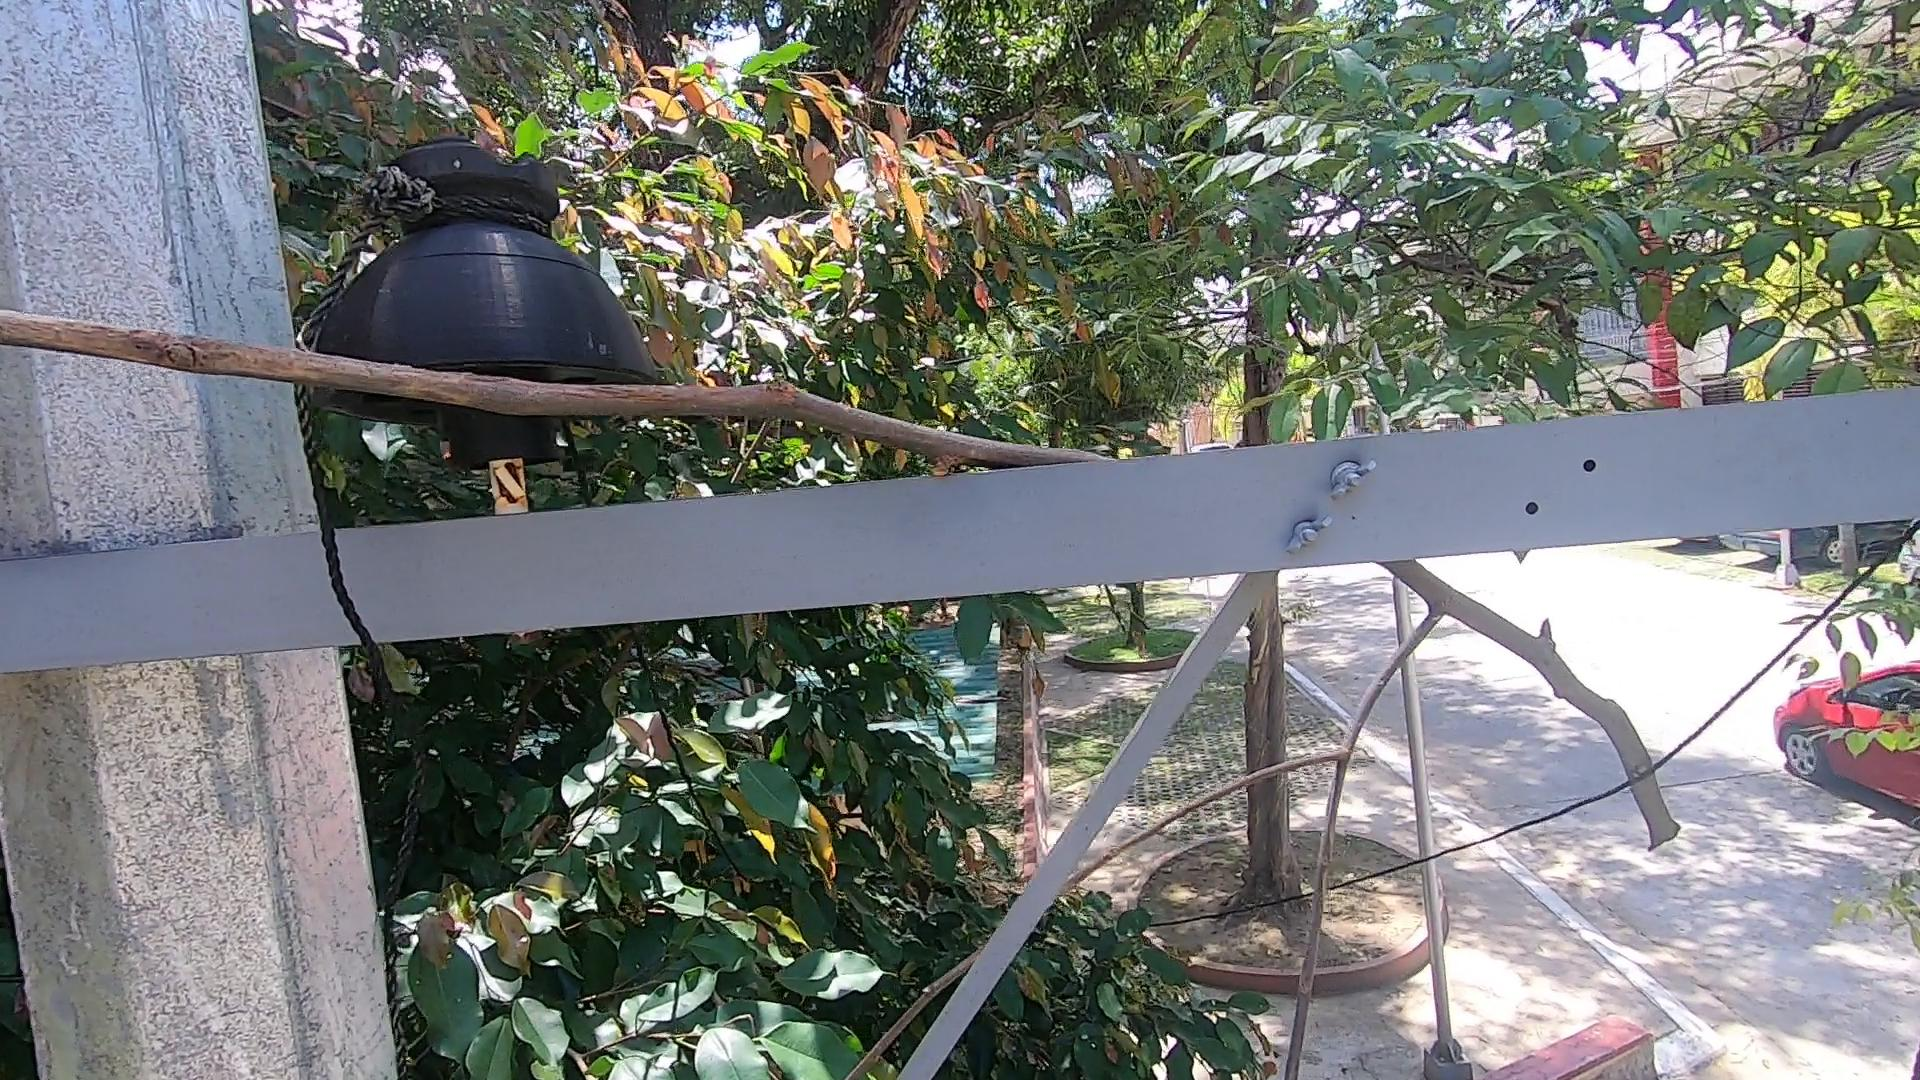tree branch: (825, 558, 1817, 1073), (4, 294, 1135, 459)
